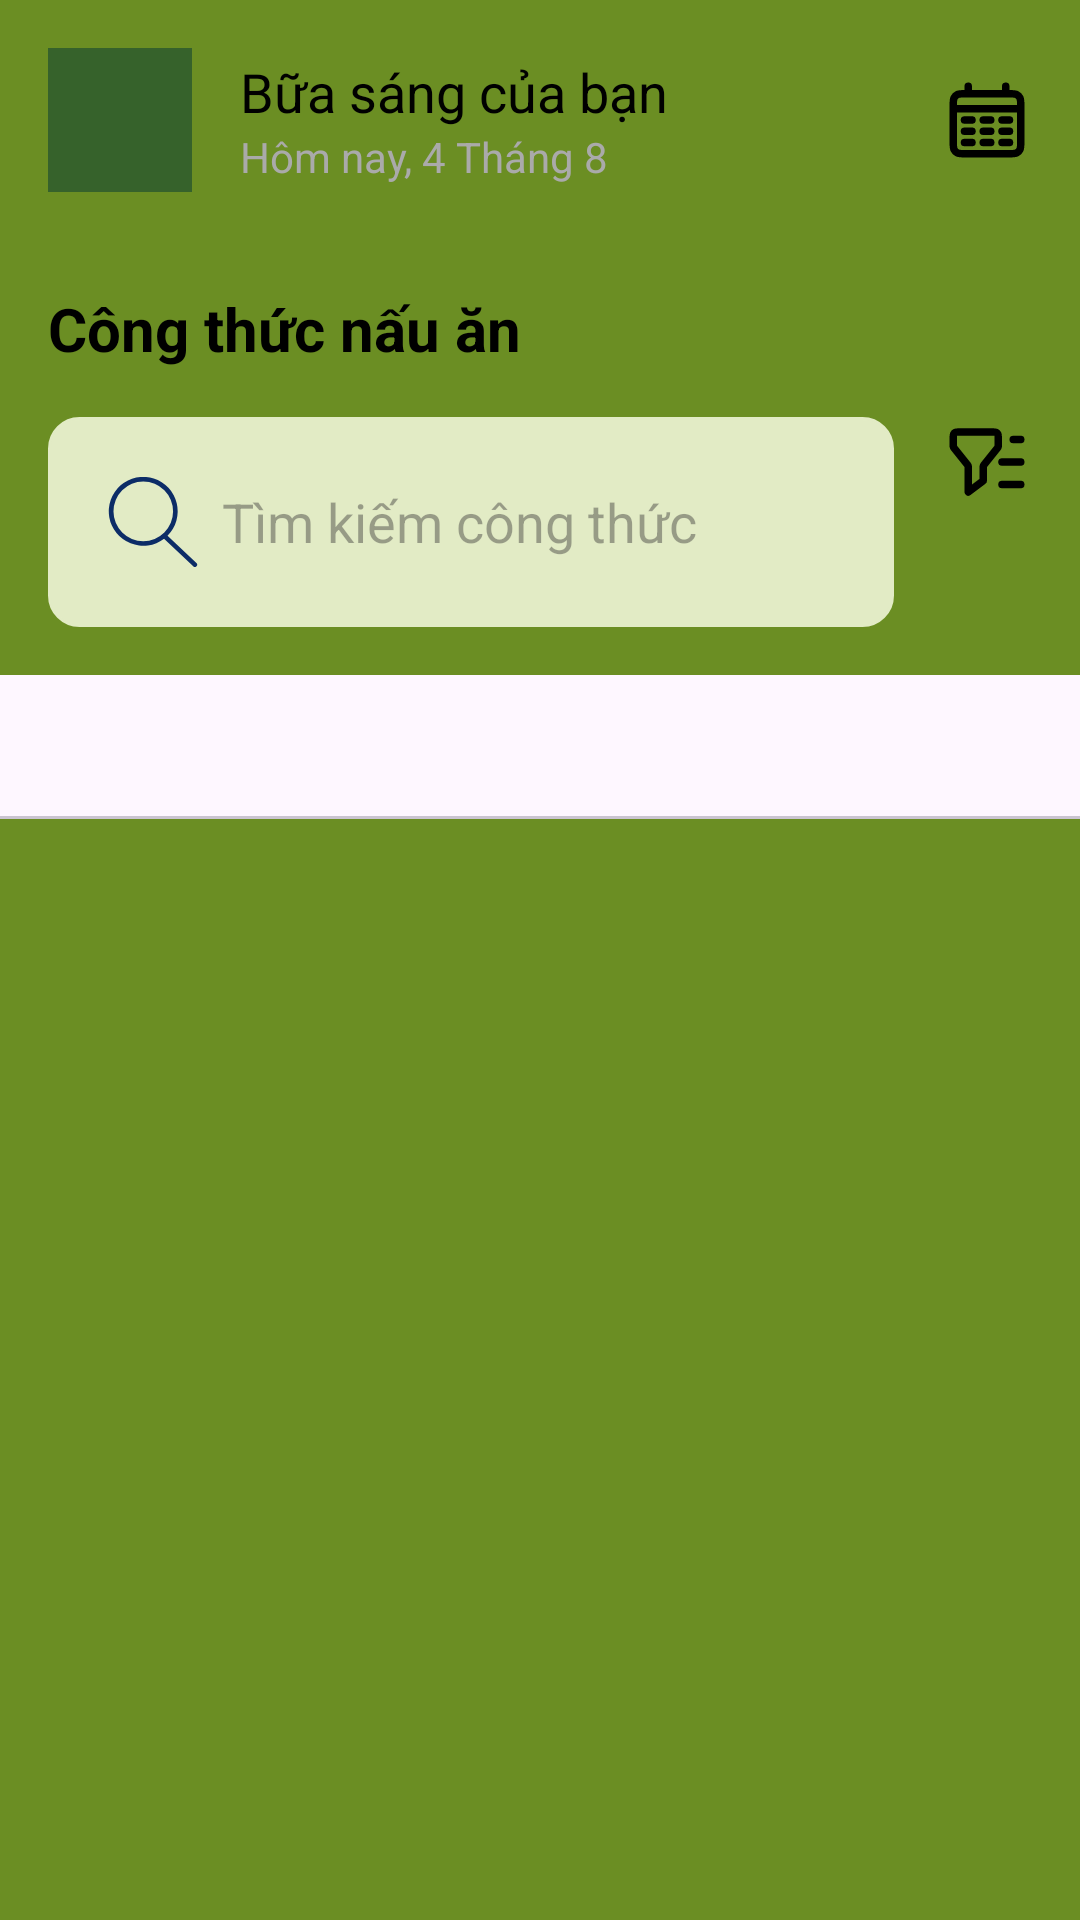

Where icons sit on this 1080 × 1920 app screen, as box(x1, y1, x2, y2):
calendar: box(949, 82, 1025, 158)
filter: box(949, 428, 1025, 496)
